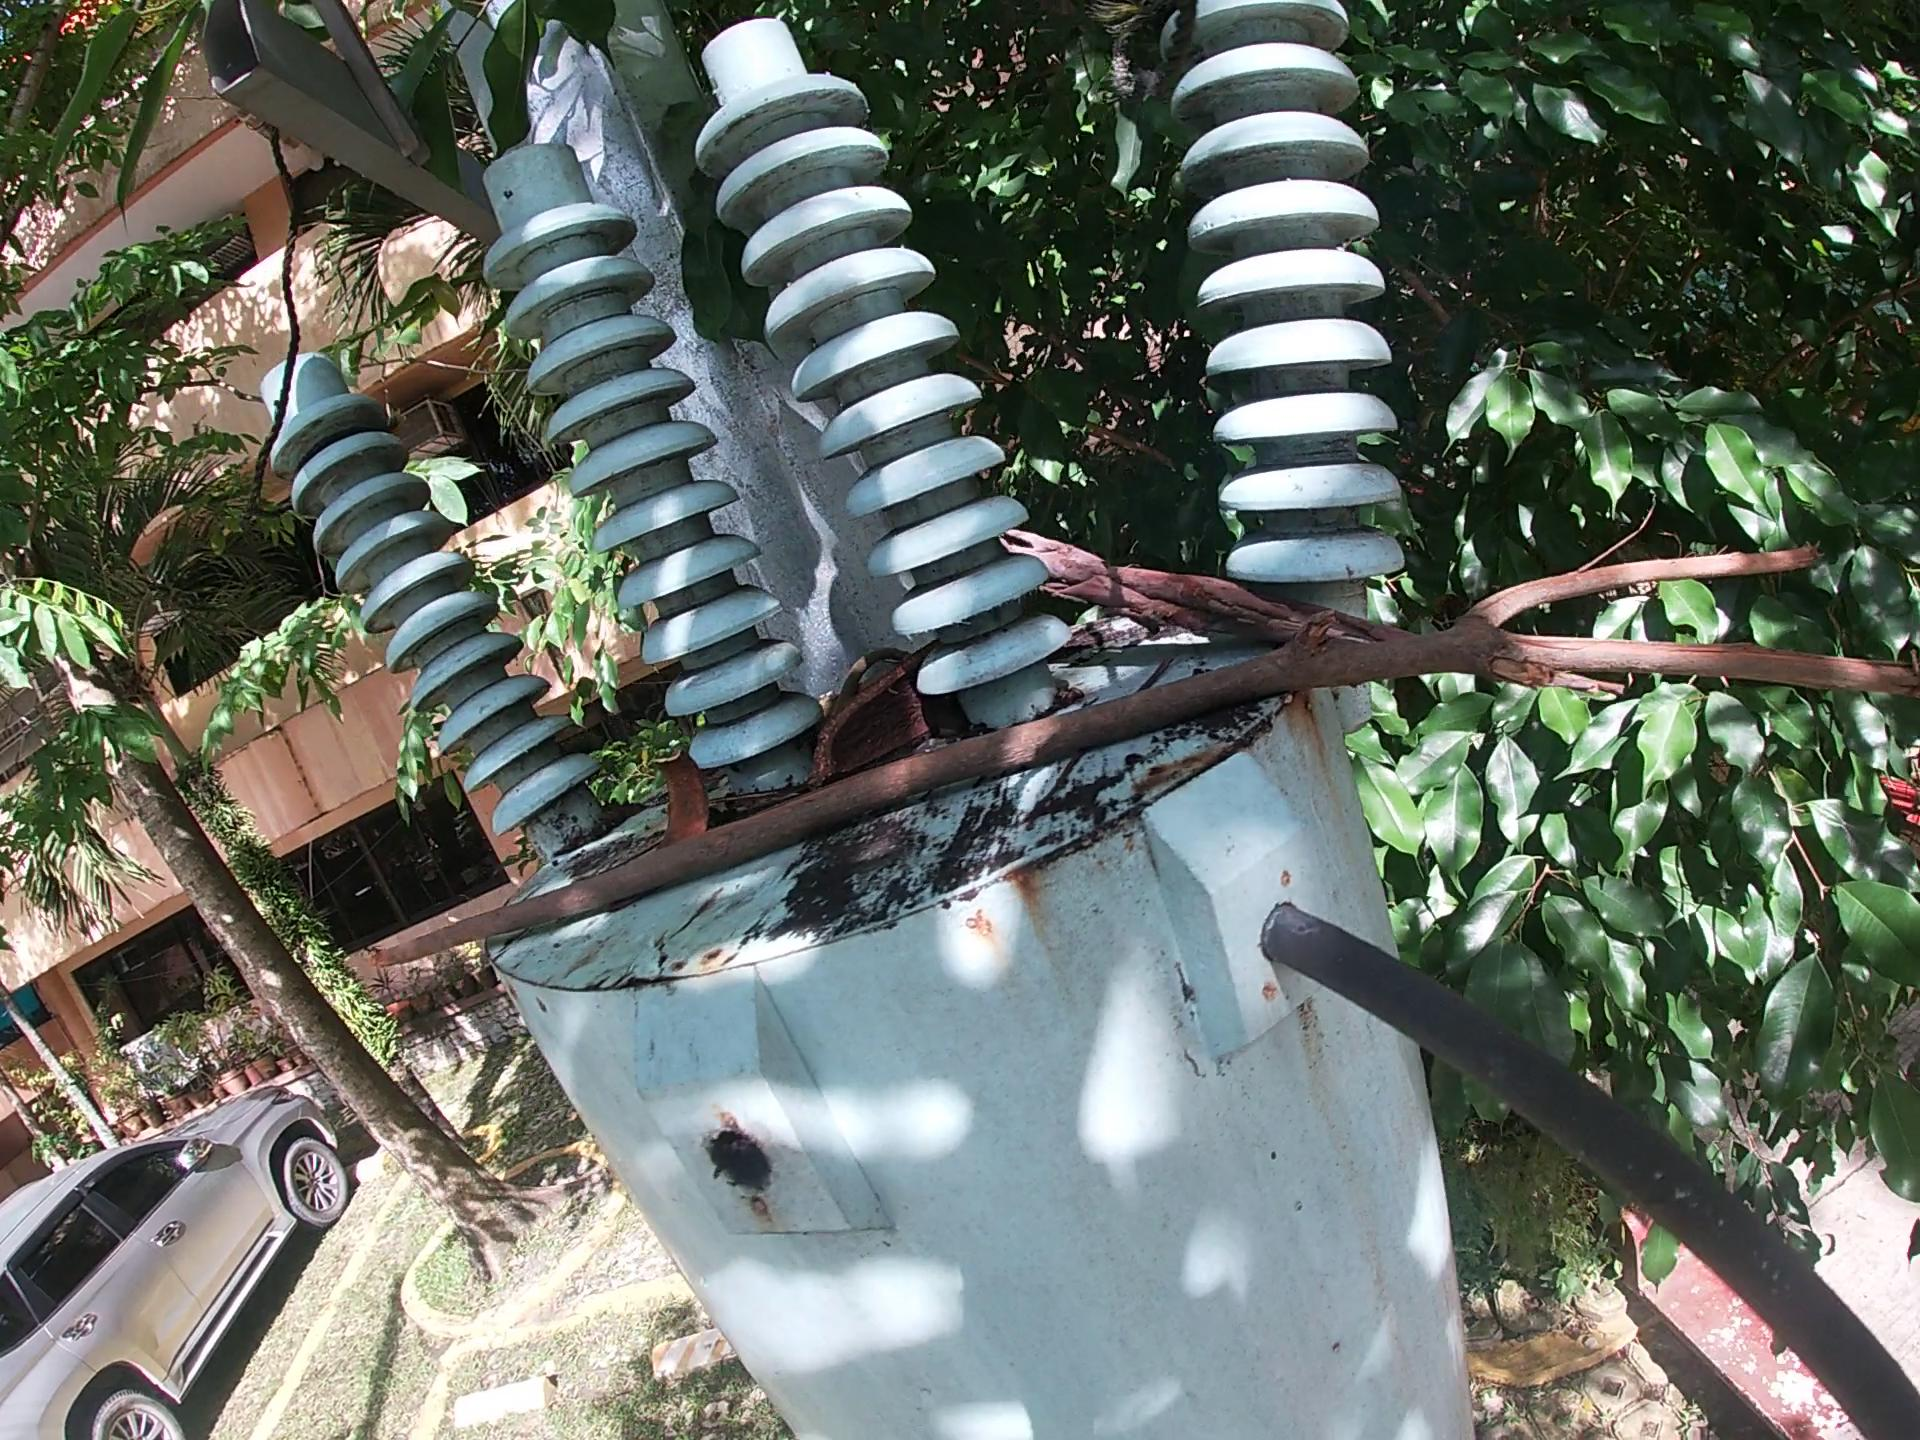mahogany fruit: (806, 635, 951, 790), (646, 746, 717, 853)
tree branch: (355, 538, 1920, 982), (995, 520, 1634, 705)
